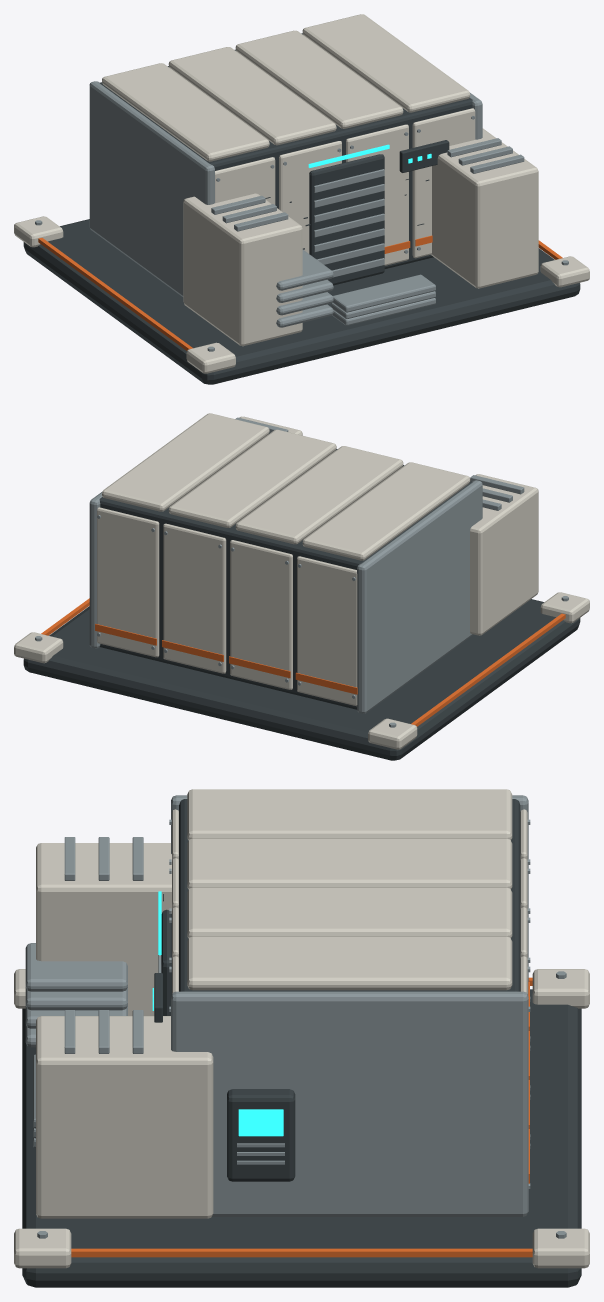
File: SM_HabitatSystemsPlant_Body.fbx
3 renders of one model, top to bottom at view 1: azimuth 30°, elevation 25°; view 2: azimuth 150°, elevation 25°; view 3: azimuth 270°, elevation 25°, orthographic. The views are drawn at different scales.
Visible parts, largest first — view 1: SM_HabitatSystemsPlant_Body; view 2: SM_HabitatSystemsPlant_Body; view 3: SM_HabitatSystemsPlant_Body.
Boxes of the visible parts, <box> form: SM_HabitatSystemsPlant_Body: <box>14,14,589,384</box>; SM_HabitatSystemsPlant_Body: <box>14,413,589,760</box>; SM_HabitatSystemsPlant_Body: <box>14,789,589,1287</box>.
Size of the model in its own units: 492 by 422 by 219.
